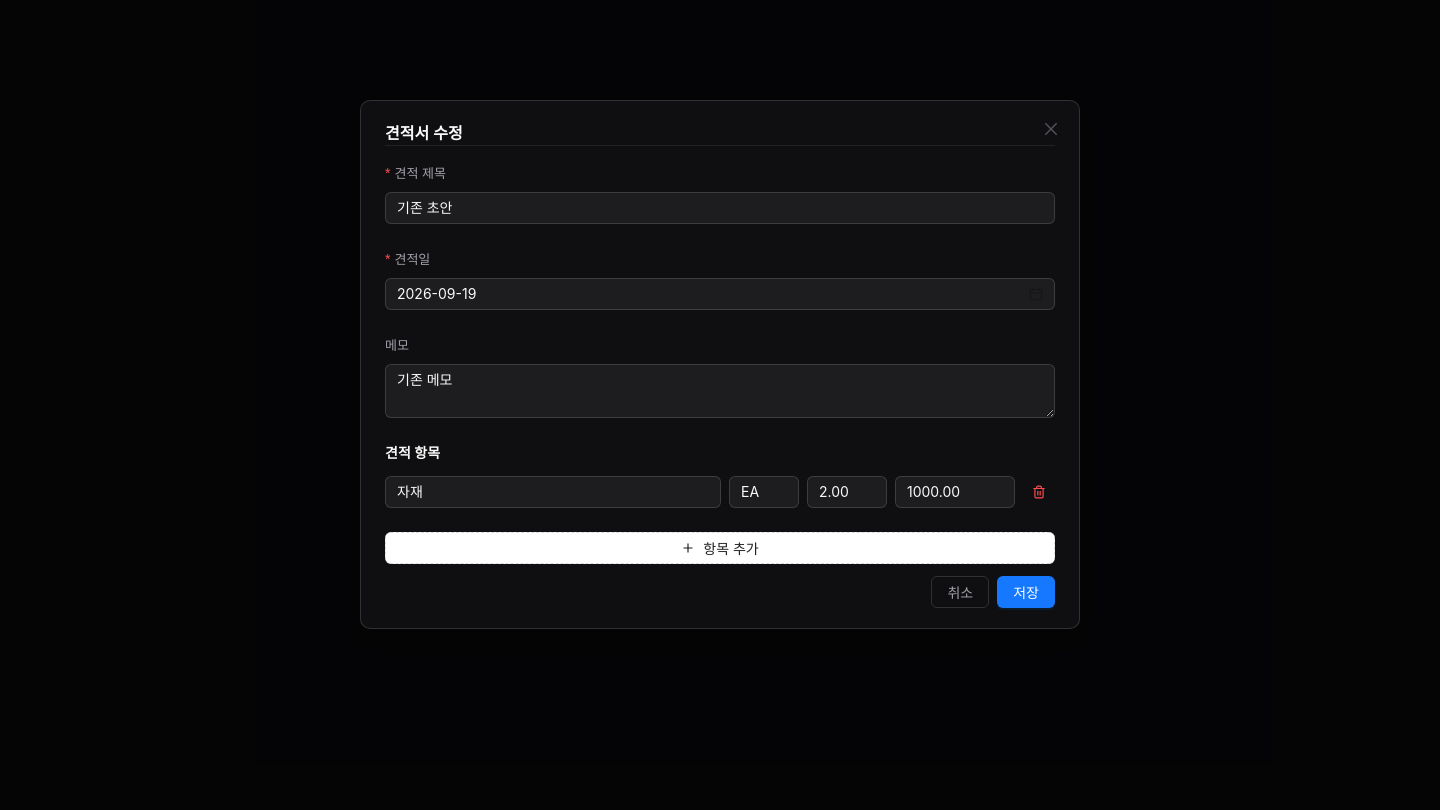
Test: EstimateEditModal › 항목을 모두 지우면 서버에 보내지 않는다
The width and height of the screenshot is (1440, 810).
Click the button named "항목 삭제" at coordinates (1039, 492), box [1023,476,1055,508]
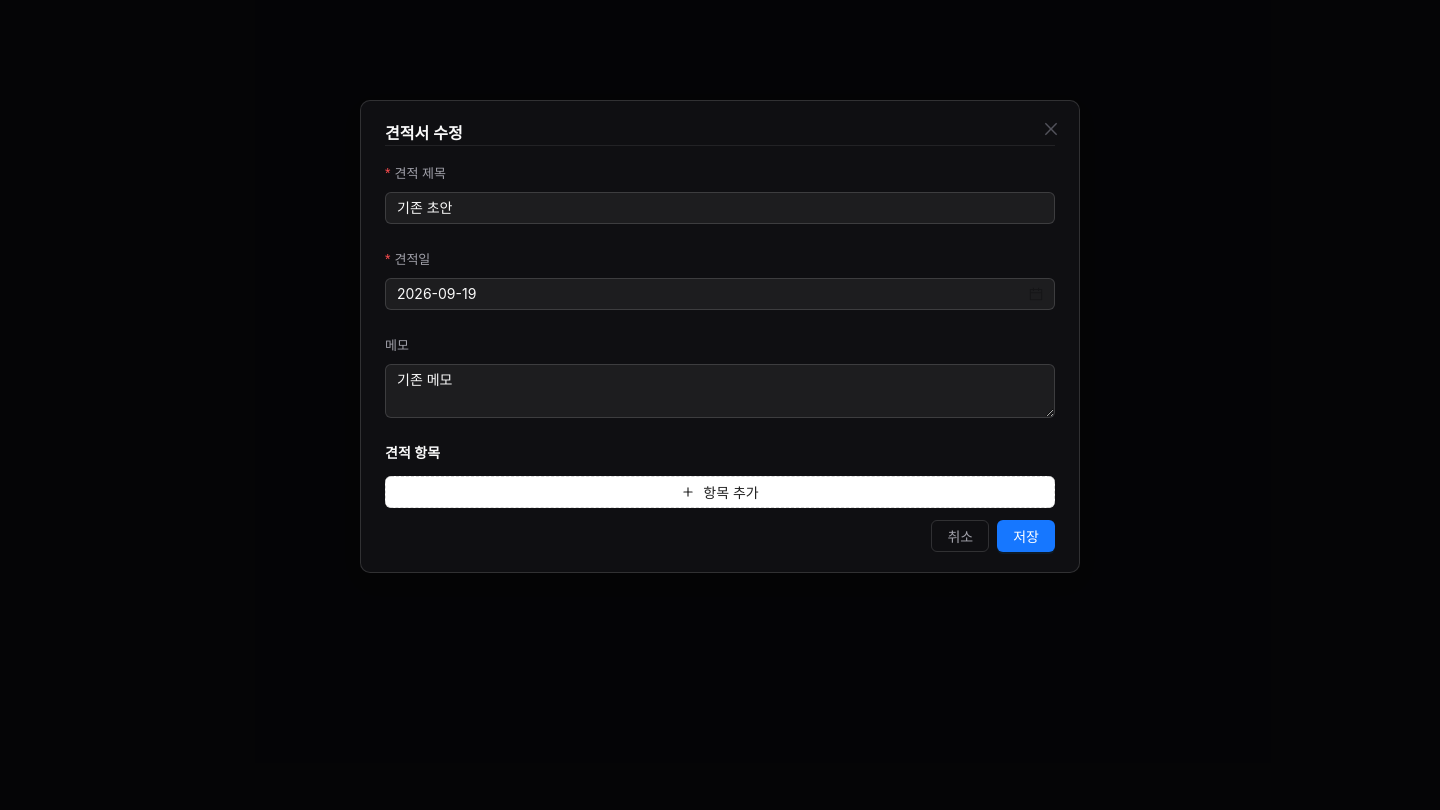
Click the button "저장" at coordinates (1026, 536), box [997,520,1055,552]
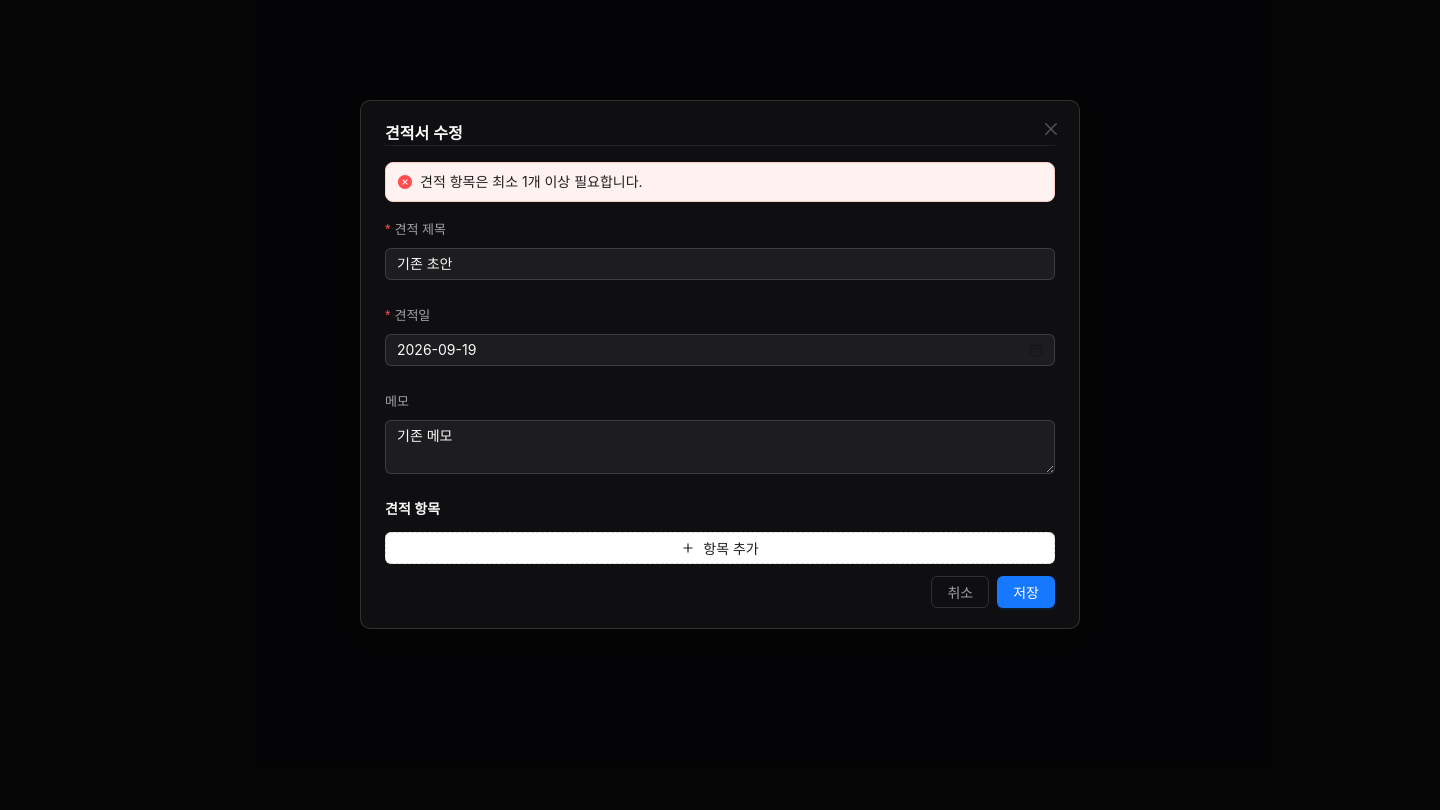
Check: the text "견적 항목은 최소 1개 이상 필요합니다." is shown, box [420,173,643,190]
